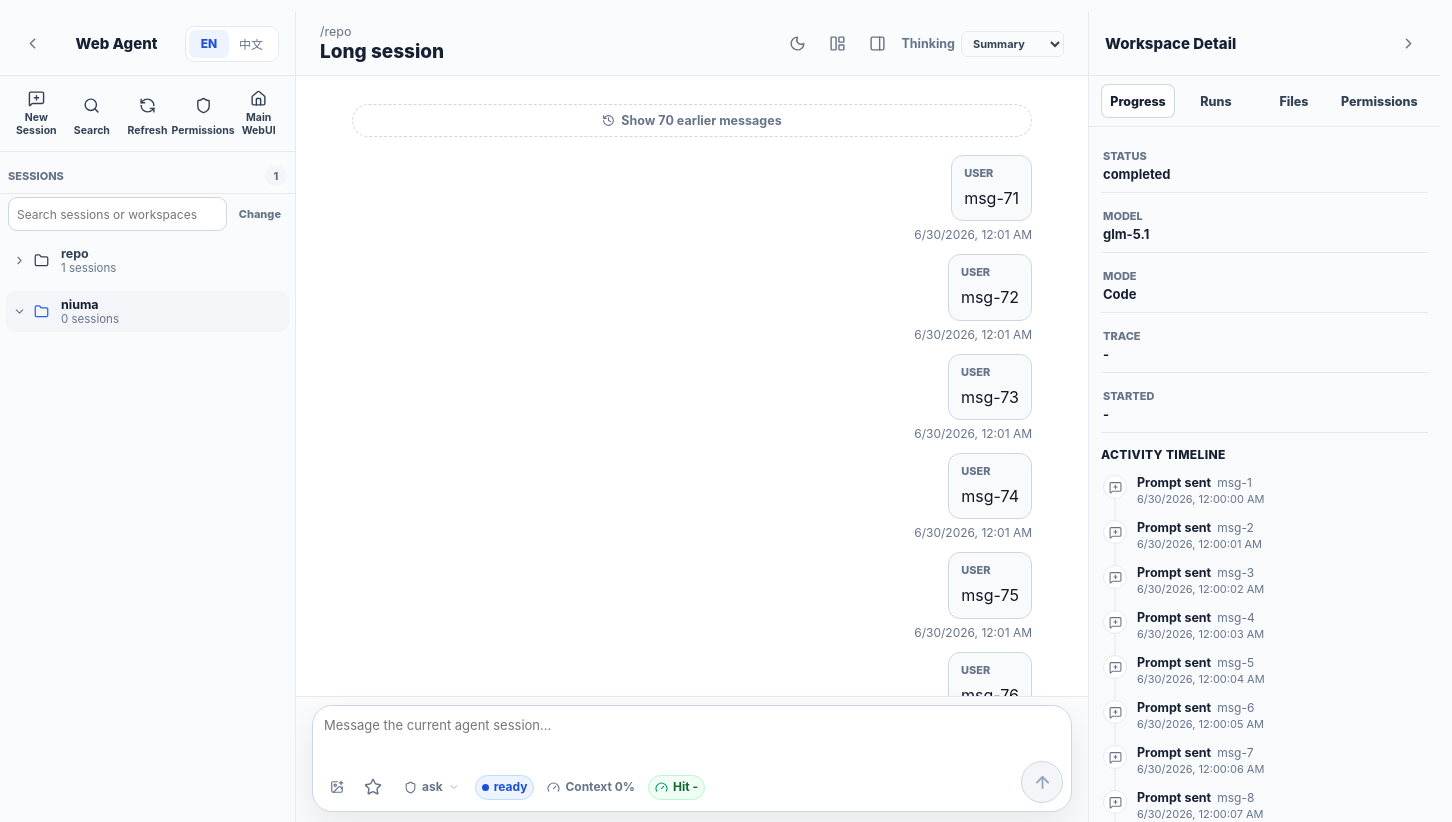
it: WebAgentPage i18n › windows long conversations and reveals earlier messages on demand
Check: the element with class "agent-message" that starts with "User" is shown, box x1=914 y1=155 x2=1032 y2=242
Check: the text "msg-1" is not shown
What coordinates should you click on to do the following:
click the button with class "agent-show-earlier"
I would click on:
 (692, 120)
Its box is x1=352 y1=104 x2=1032 y2=137.
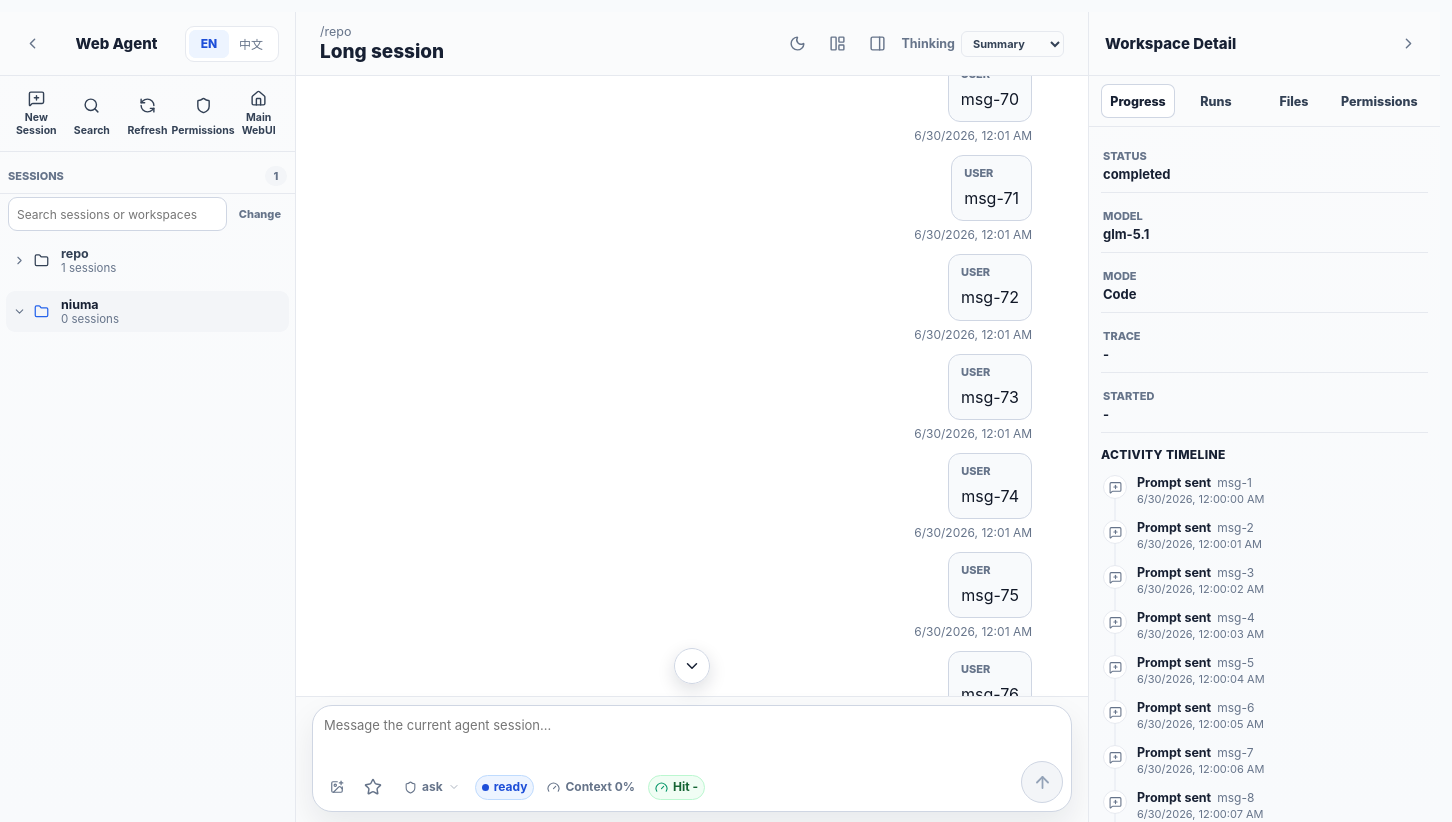
Check: the button with class "agent-show-earlier" is gone
